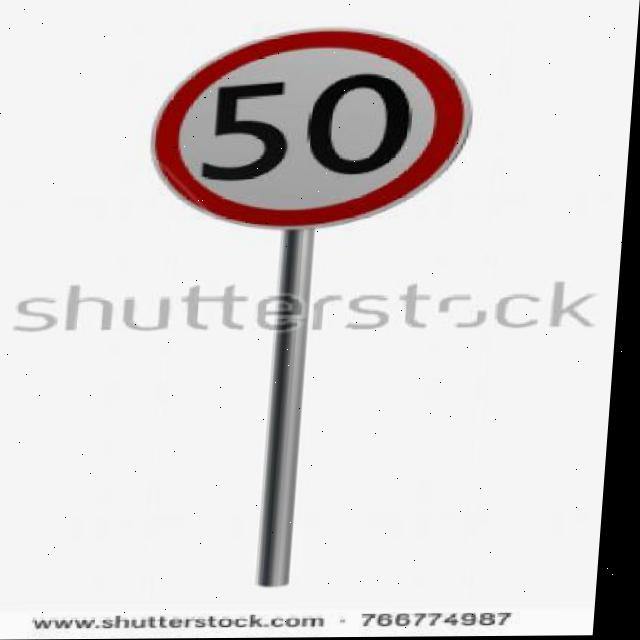Speed limit 50: (144, 24, 482, 234)
